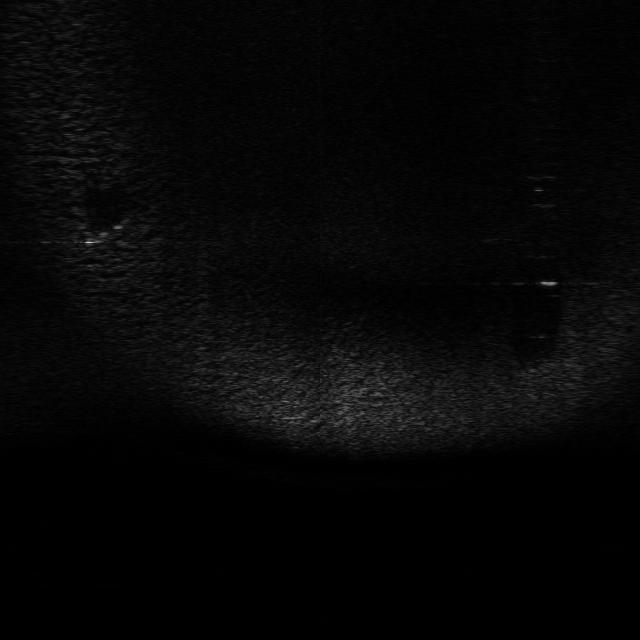plane: (78, 217, 142, 250)
